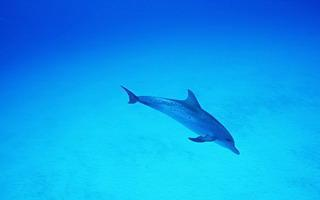fish: (119, 83, 241, 155)
